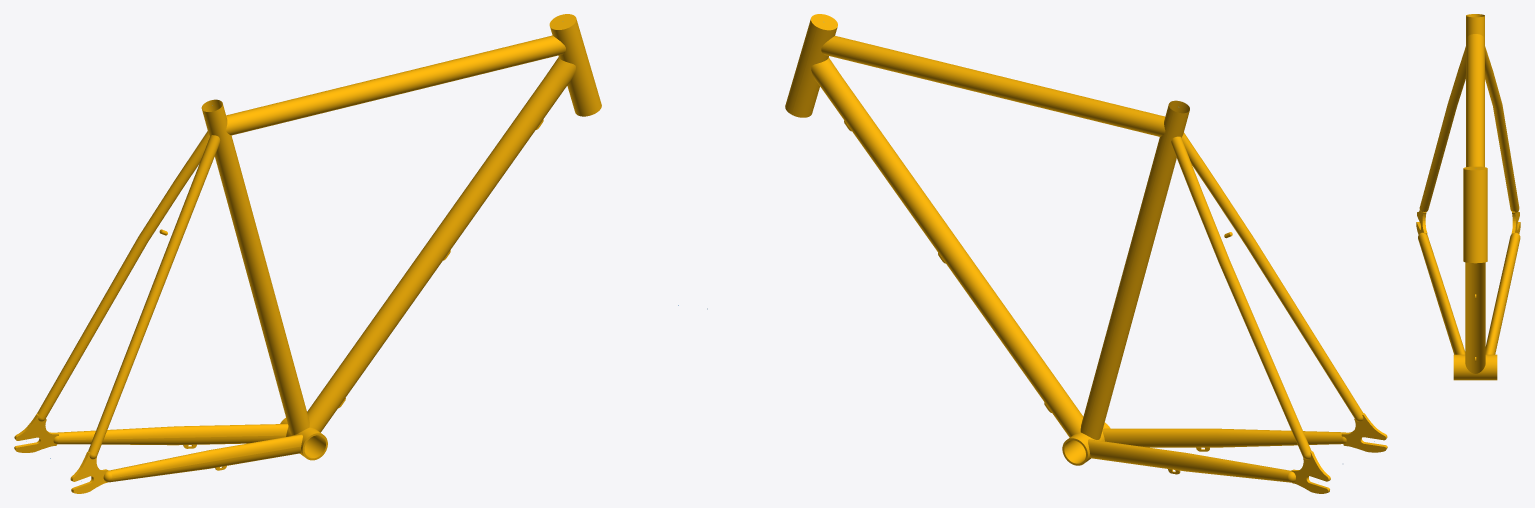
The model's file is bikeFrame1_oss.glb.
3 renders of one model, left to right at view 1: azimuth 30°, elevation 25°; view 2: azimuth 150°, elevation 25°; view 3: azimuth 270°, elevation 25°, orthographic. The views are drawn at different scales.
Parts seen in each view (by area): view 1: no_transformations; view 2: no_transformations; view 3: no_transformations.
Part boxes in pixels (x1,y1,x2,y2): no_transformations: (14, 14, 678, 493); no_transformations: (707, 14, 1387, 493); no_transformations: (1416, 14, 1520, 380).
Bounding box in the file's own units: 1013 × 560 × 162.
